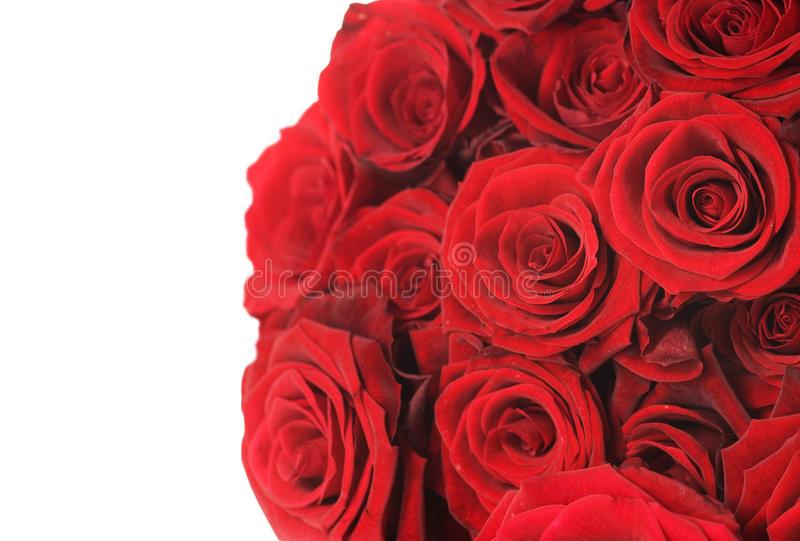RedRose: (613, 96, 791, 297), (459, 148, 649, 334), (231, 347, 393, 541), (429, 330, 643, 465), (328, 8, 480, 169), (227, 133, 351, 310), (505, 7, 640, 148), (646, 0, 798, 87), (484, 478, 703, 536), (363, 198, 451, 339), (636, 368, 731, 475), (722, 281, 797, 387)
